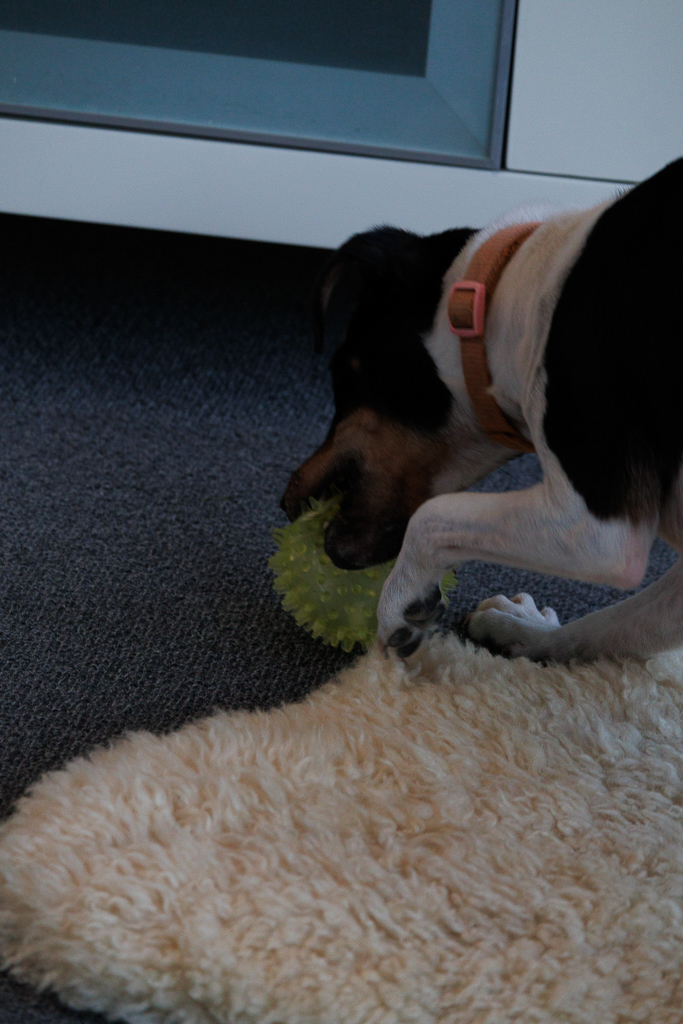Dog: (270, 133, 682, 695)
